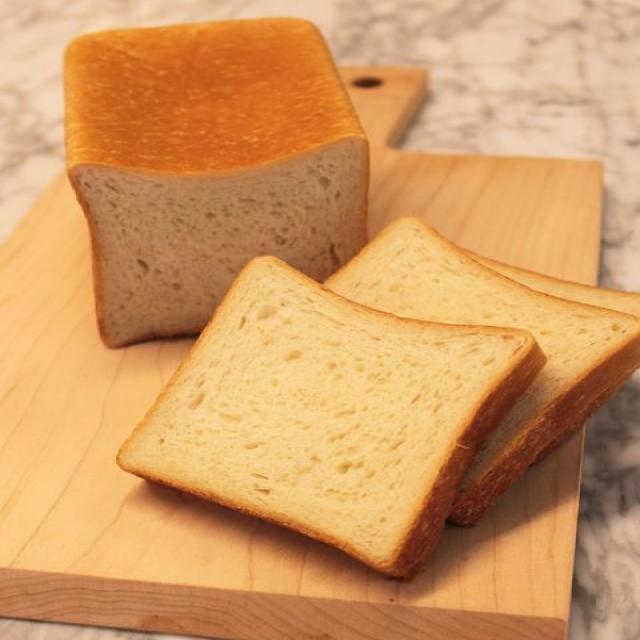sliced_bread: (117, 258, 544, 577), (119, 258, 543, 575), (327, 218, 639, 523), (472, 252, 639, 317)
